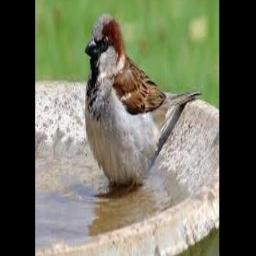Sparrow: (85, 12, 202, 189)
